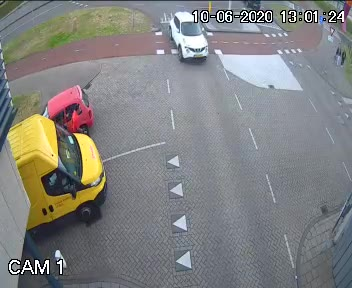car: (0, 124, 122, 231), (162, 5, 217, 70), (37, 85, 91, 135)
